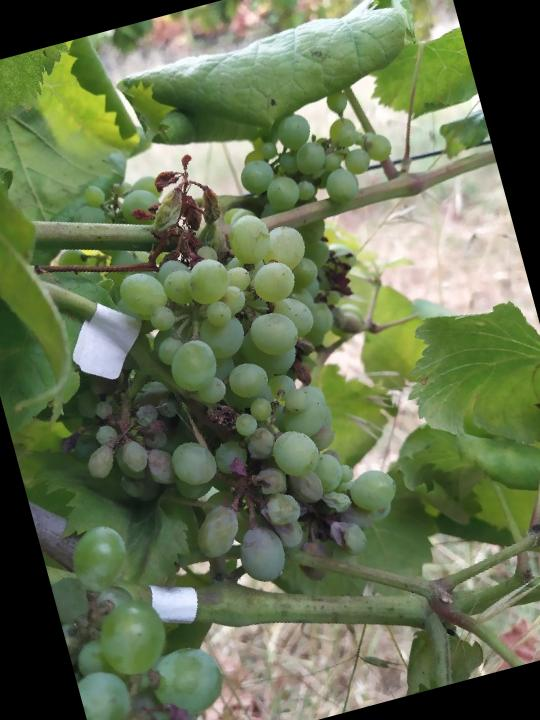grape: (21, 147, 419, 624)
